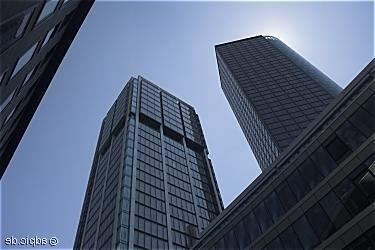building: (188, 57, 375, 250), (73, 75, 228, 250), (213, 32, 346, 174), (0, 0, 97, 183)
